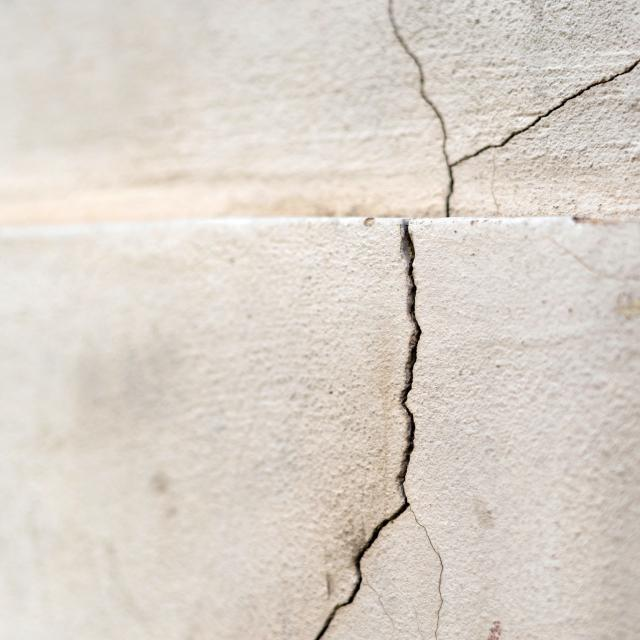Wall_Cracks: (240, 226, 458, 640), (372, 5, 634, 221)
